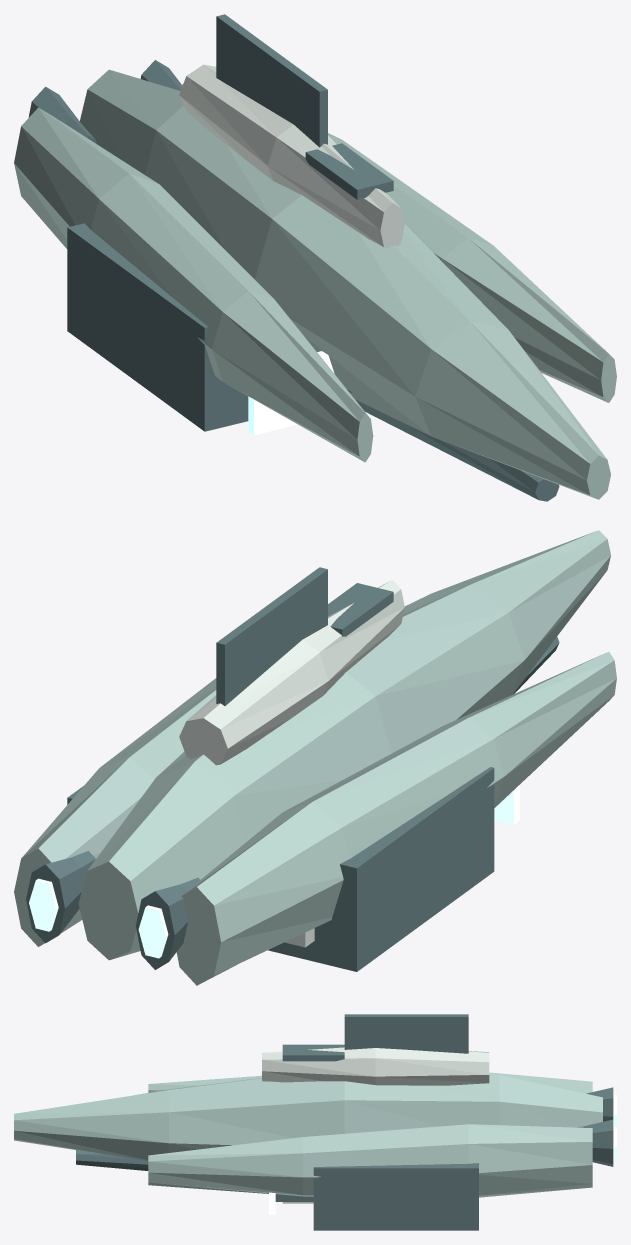
3 views of the same model, one above another, from view 1: azimuth 30°, elevation 25°; view 2: azimuth 150°, elevation 25°; view 3: azimuth 270°, elevation 25° (orthographic). The views are drawn at different scales.
Bounding box in the file's own units: 5.9 × 5.53 × 17.52.
